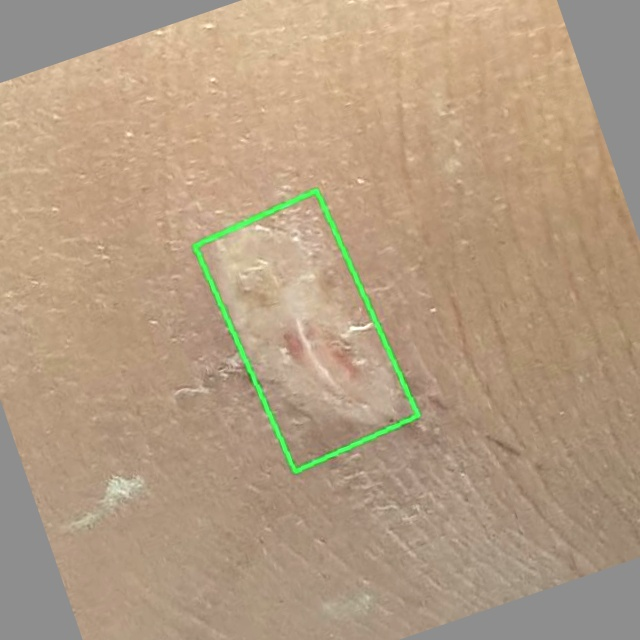Eczema: (194, 191, 418, 471)
